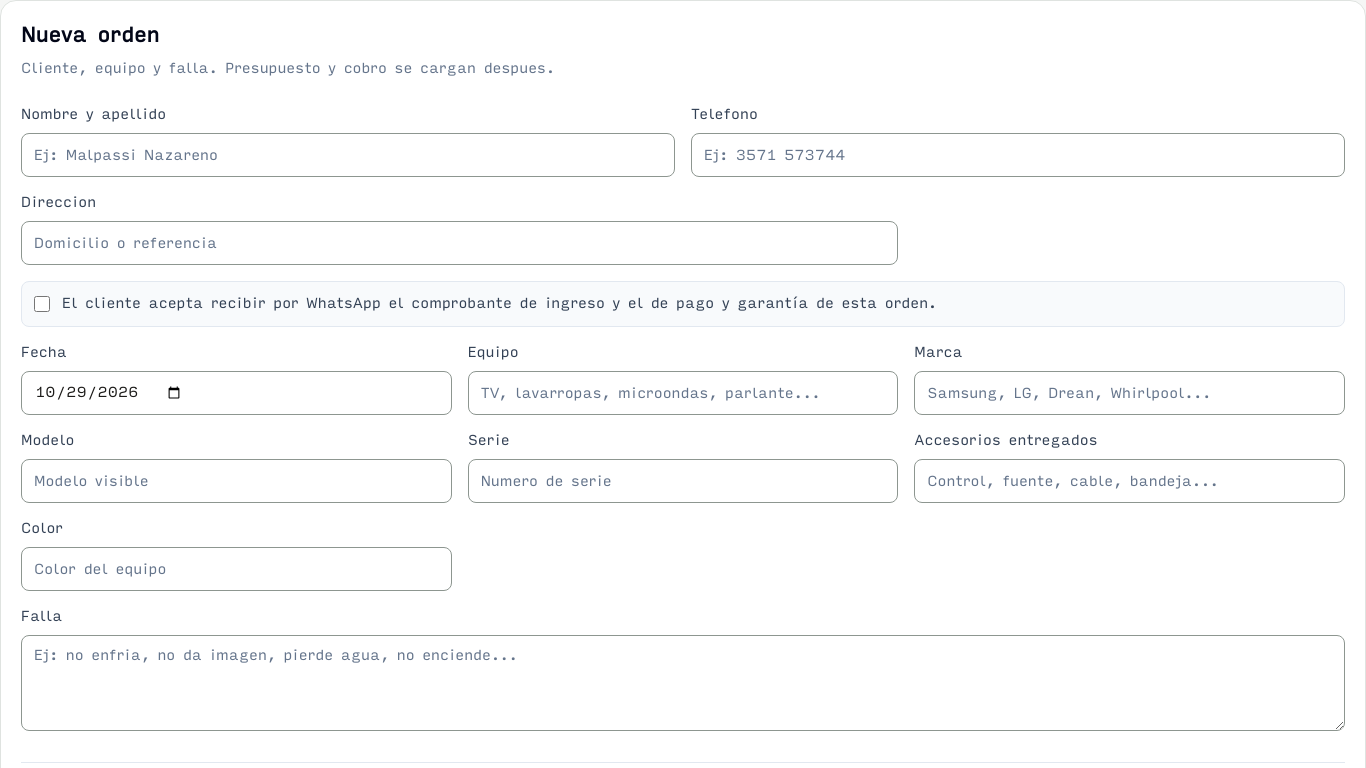
RepairAccessNewOrderWizard › ignores stale lookup failures without clearing newer results
Type "Ana" into the dropdown labelled "Nombre y apellido".
click(348, 155); type("Ana")  # box [21,133,675,177]
Wait 180 ms
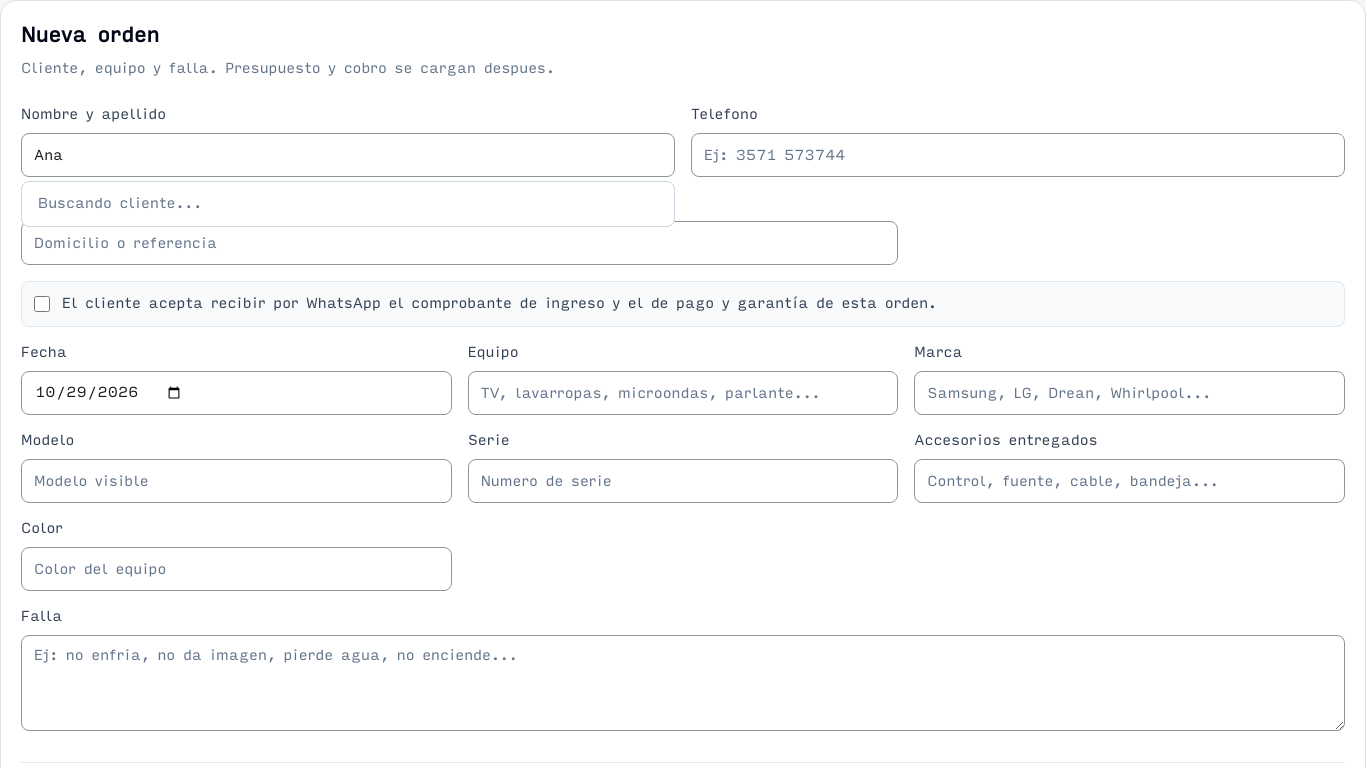
Replace the text in the dropdown labelled "Nombre y apellido" with "Ana Rem" at (348, 155), box [21,133,675,177]
Wait 180 ms
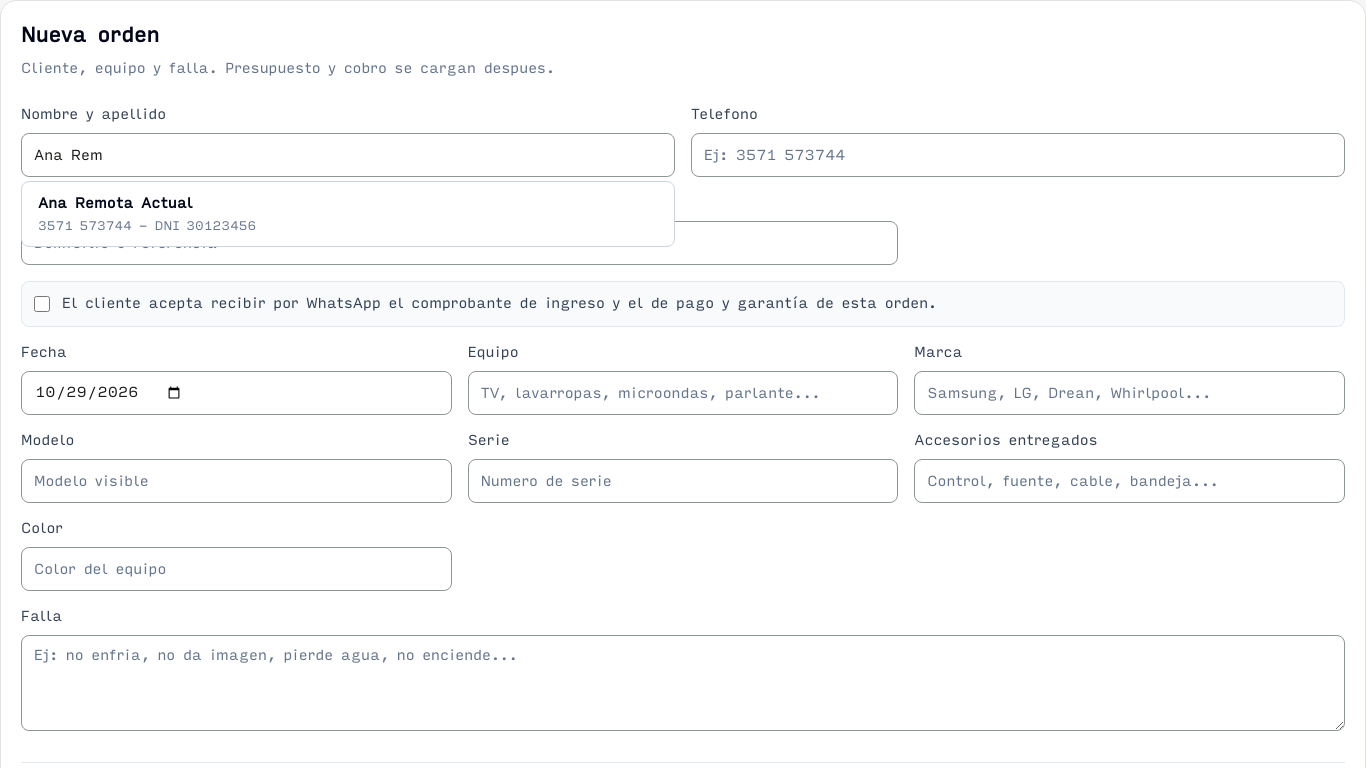
Expected: the text "Ana Remota Actual" is shown, [38,195,193,212]
